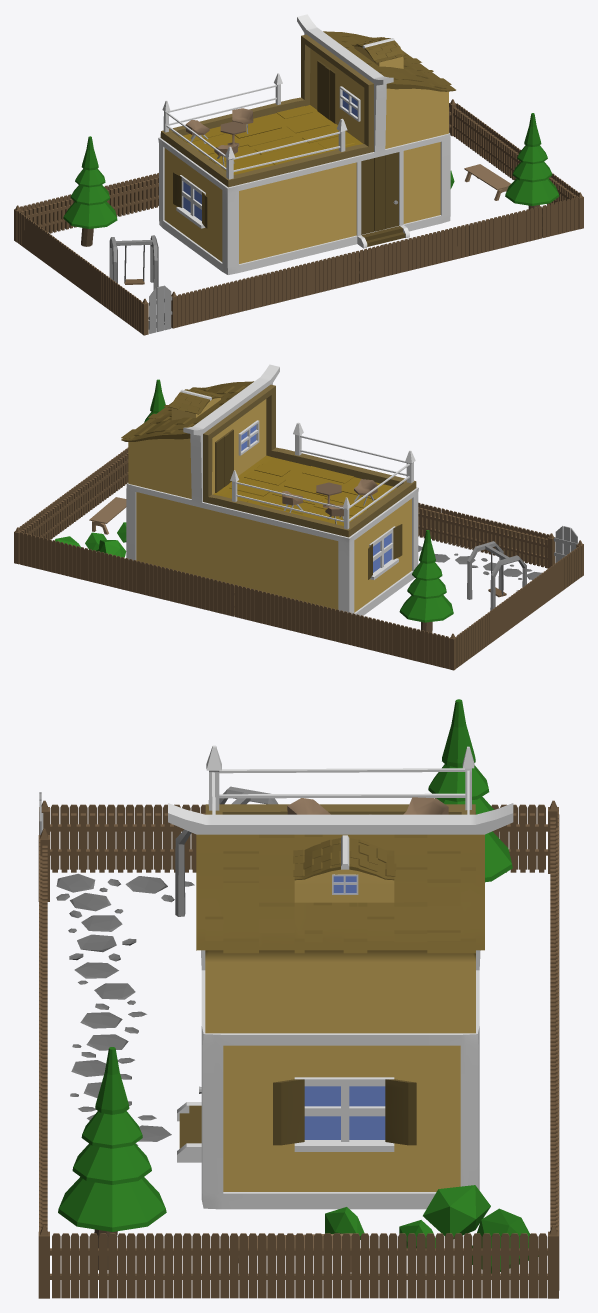
File: 3lvl_yellow.fbx
The picture shows the model from 3 angles, top to bottom: view 1: azimuth 30°, elevation 25°; view 2: azimuth 150°, elevation 25°; view 3: azimuth 270°, elevation 25°; orthographic projection. The views are drawn at different scales.
Visible parts, largest first — view 1: yellow_3lvl; view 2: yellow_3lvl; view 3: yellow_3lvl.
Part boxes in pixels (x1,y1,x2,y2): yellow_3lvl: (14, 14, 583, 335); yellow_3lvl: (14, 364, 583, 670); yellow_3lvl: (38, 699, 559, 1298).
Size of the model in its own units: 187 by 67.37 by 95.74.
